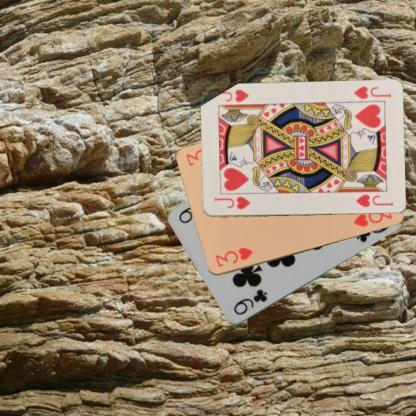3h: (212, 245, 254, 269)
9c: (231, 286, 268, 316)
Jh: (351, 83, 392, 100), (211, 194, 251, 211)
